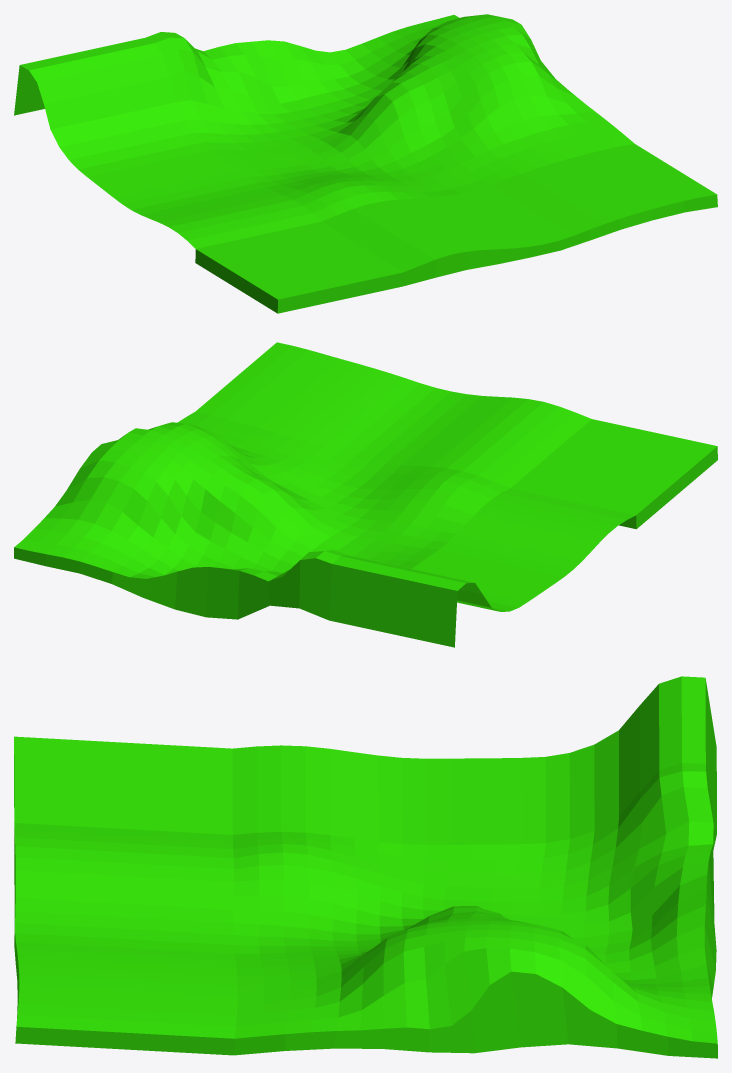
File: level2Floor.glb
3 views of the same model, one above another, from view 1: azimuth 30°, elevation 25°; view 2: azimuth 150°, elevation 25°; view 3: azimuth 270°, elevation 25° (orthographic). The views are drawn at different scales.
Parts seen in each view (by area): view 1: Grid; view 2: Grid; view 3: Grid.
Boxes of the visible parts, left/top/right/bottom form: Grid: left=14, top=14, right=717, bottom=313; Grid: left=14, top=342, right=717, bottom=647; Grid: left=14, top=676, right=717, bottom=1058.
Size of what is drawn, in the model's own units: 468 by 85.91 by 484.
